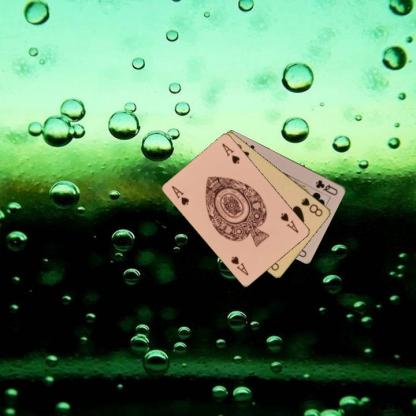8s: (299, 195, 324, 218)
As: (278, 210, 300, 235), (169, 183, 191, 206)
Qc: (313, 178, 339, 196)
